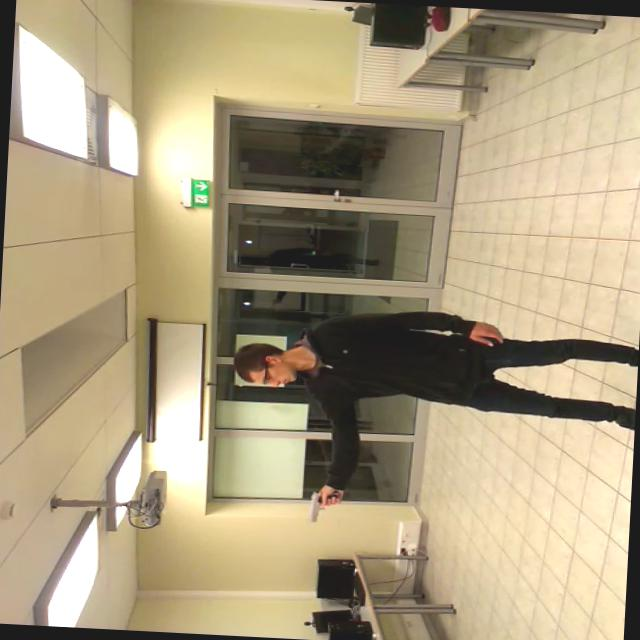handgun: (296, 484, 344, 524)
